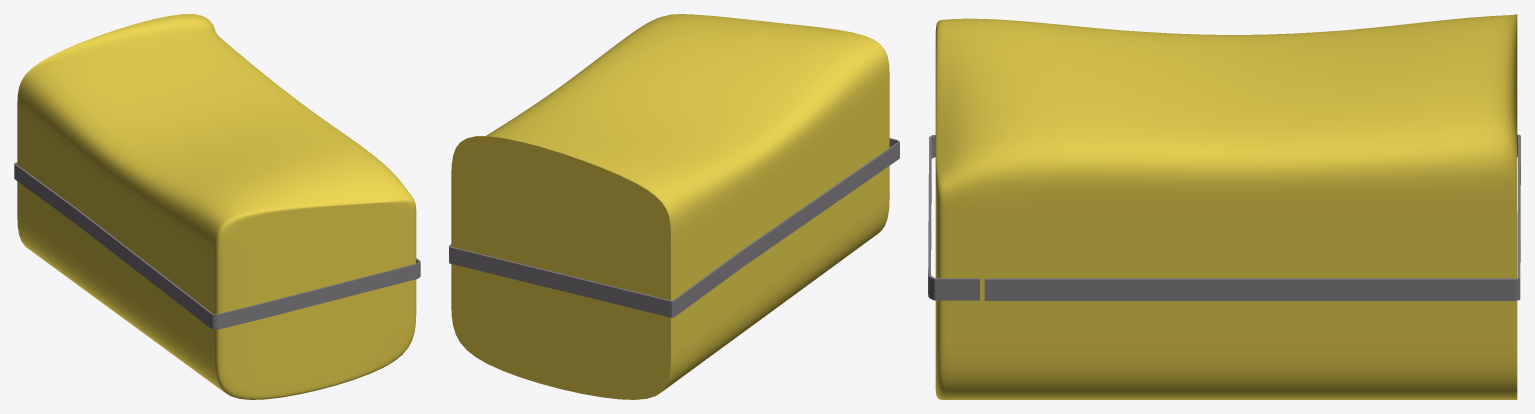
The model's file is ExportedBlenderFBXFile.fbx.
3 renders of one model, left to right at view 1: azimuth 30°, elevation 25°; view 2: azimuth 150°, elevation 25°; view 3: azimuth 270°, elevation 25°, orthographic. The views are drawn at different scales.
Parts seen in each view (by area): view 1: Cube, Plane; view 2: Cube, Plane; view 3: Cube, Plane.
Part boxes in pixels (bbox=[...]): Cube: bbox=[17, 14, 416, 399]; Plane: bbox=[14, 162, 420, 329]; Cube: bbox=[451, 14, 889, 399]; Plane: bbox=[449, 138, 899, 317]; Cube: bbox=[935, 14, 1517, 399]; Plane: bbox=[928, 134, 1520, 300].
Size of the model in its own units: 2.09 by 2.07 by 3.54.
